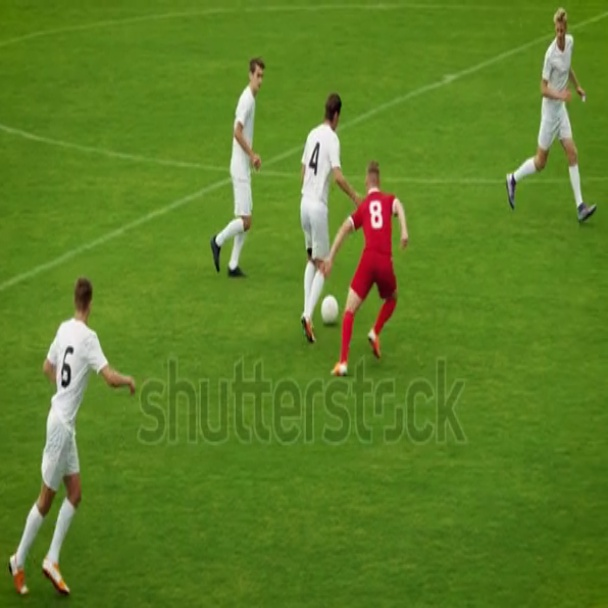ball: (323, 292, 338, 326)
